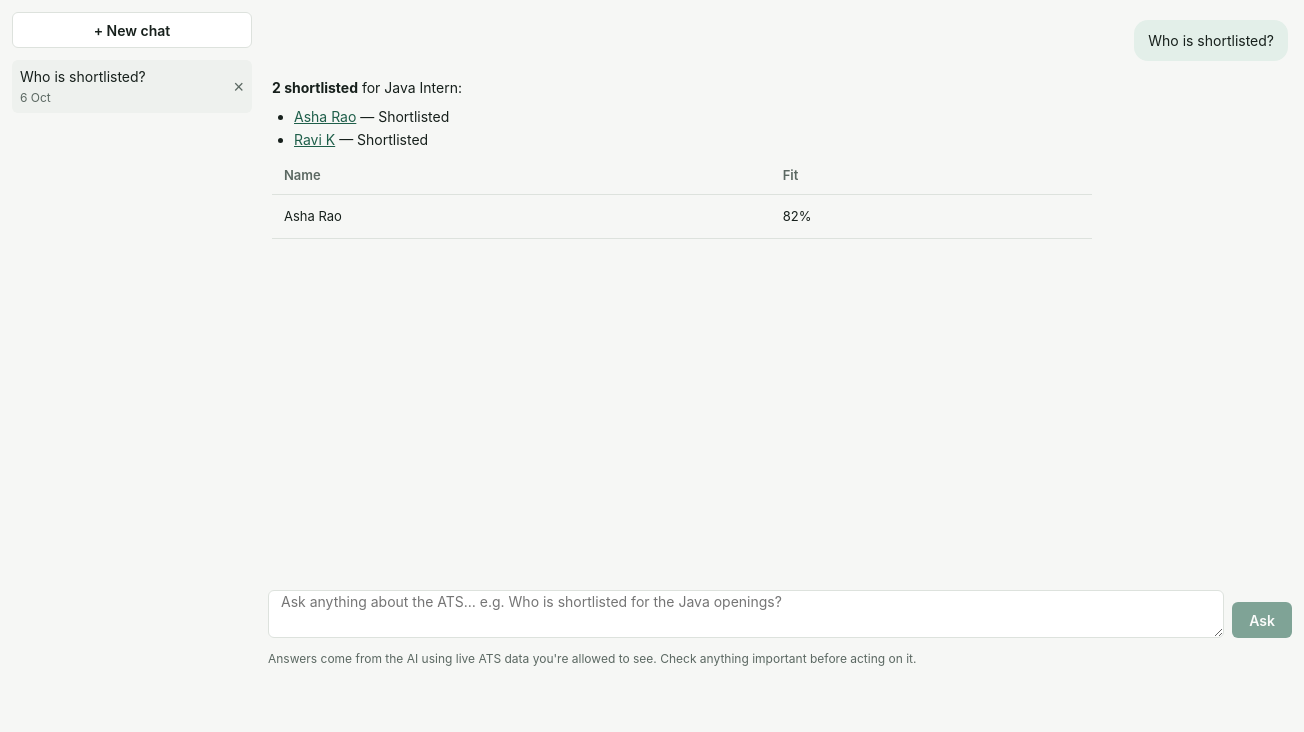
Test: AskPage (ASK-01…ASK-04) › continues an earlier chat with Enter
Expected: the link "Ravi K" is shown, top-left (294, 131), bottom-right (335, 148)
Step 1. Type "and Ravi?" into the text box named "Your question" → (746, 614), box top-left (268, 590), bottom-right (1224, 638)
Then press Enter
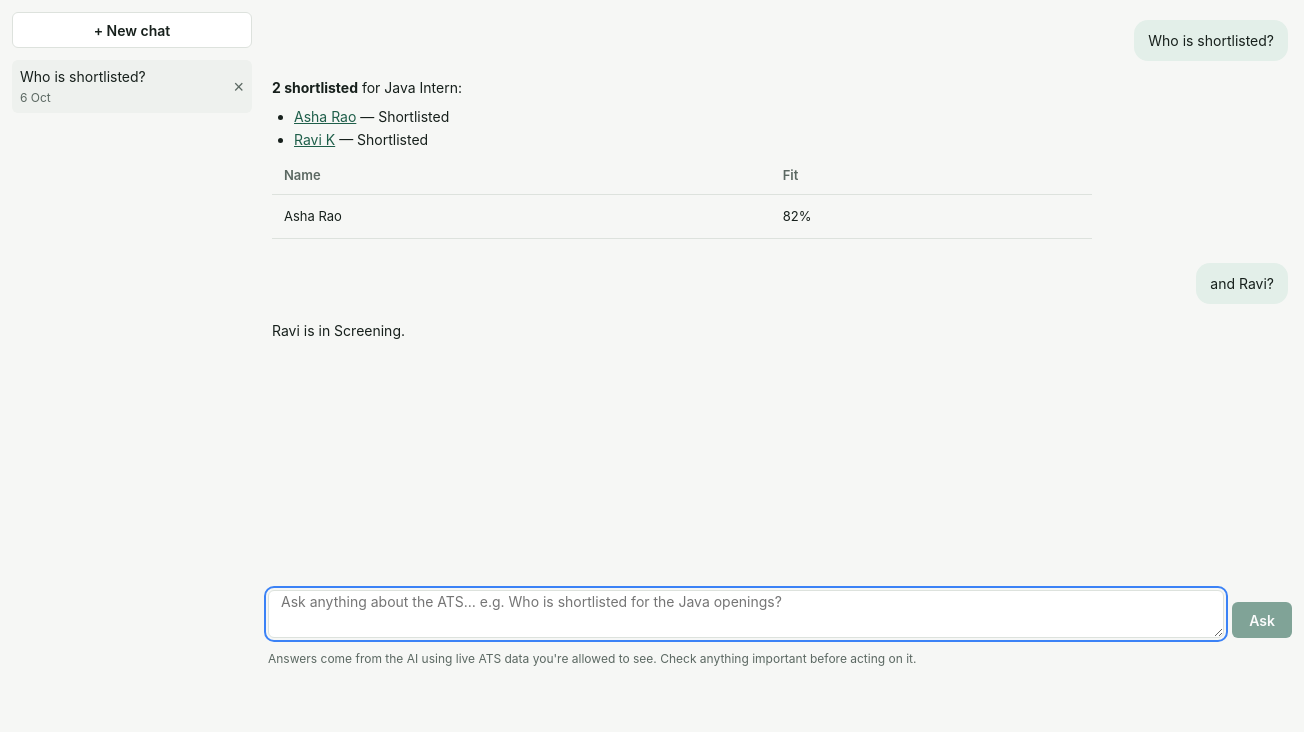
Expected: the text "Ravi is in Screening." is shown, top-left (272, 322), bottom-right (405, 339)
